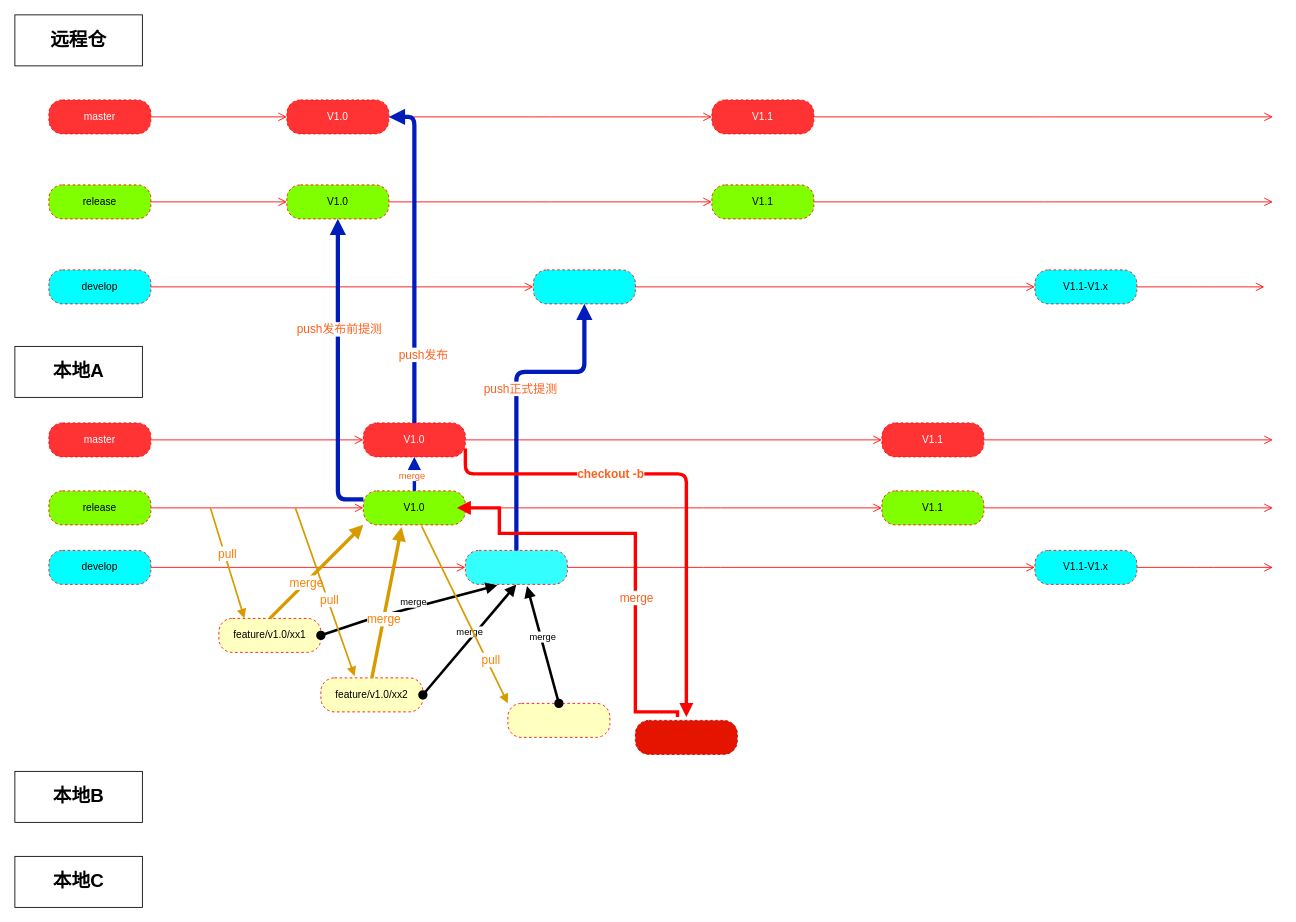
This 1296x922 diagram has some shape labels left out. Each missing label, with the box of its shape:
feature/v1.1/xx3: (507, 703, 610, 737)
hotfix/xx-xxx: (635, 720, 737, 754)
V1.0-v1.1: (465, 550, 567, 584)
V1.x: (533, 269, 635, 304)
